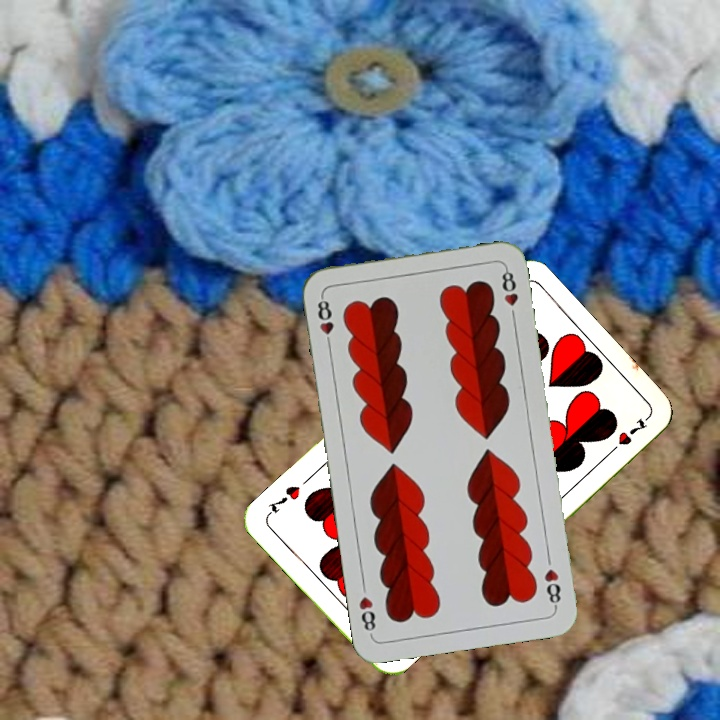H8: (313, 292, 336, 351), (540, 564, 563, 611)
